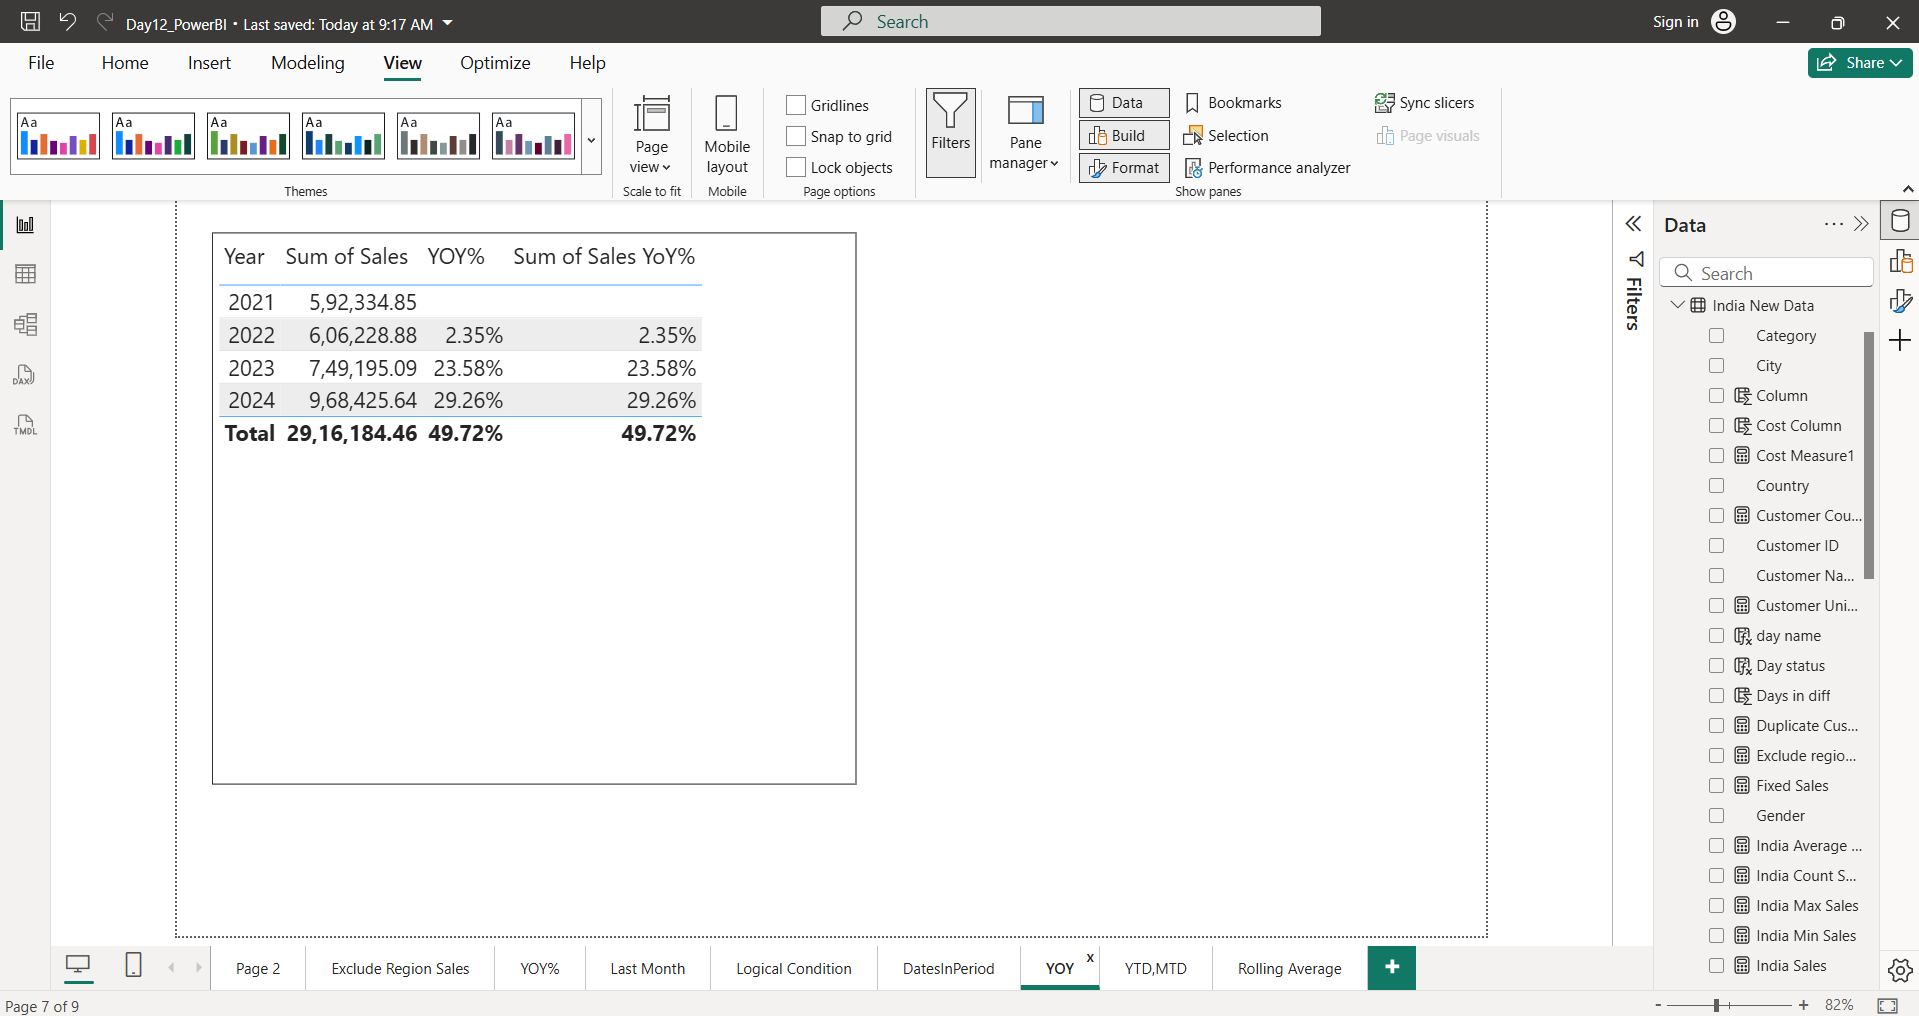

The dashboard page shown, as its layout file describes it:
{"tool":"powerbi","page":{"name":"YOY","canvas":[1280,720],"ordinal":6},"visuals":[{"type":"tableEx","fields":{"Values":["India New Data.Order Date.Variation.Date Hierarchy.Year","Sum(India New Data.Sales)","India New Data.YOY%","Country list.Sum of Sales YoY%"]},"box":[34,32,630,540],"z":0}]}

Visuals, with their boxes on the page's 1280x720 design canvas (x1, y1, x2, y2). These are canvas units, not pixel positions in the 1919x1016 screenshot, which may show the page scaled, cropped or inside an application window:
tableEx - India New Data.Order Date.Variation.Date Hierarchy.Year x Sum(India New Data.Sales): l=34, t=32, r=664, b=572
